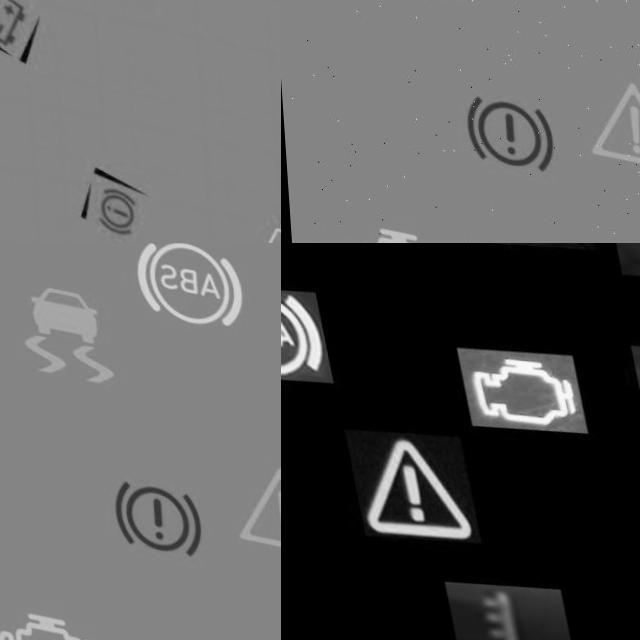Central Warning lamp: (339, 407, 477, 549)
Engine cooling system: (437, 555, 574, 640)
